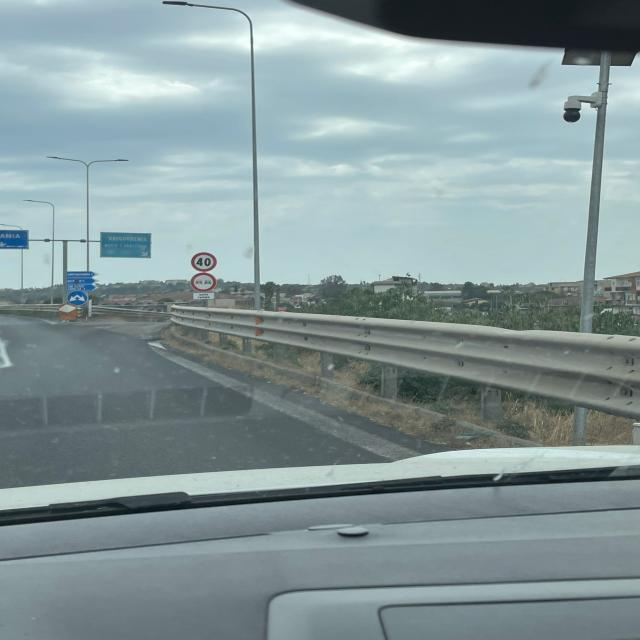forb_overtake: (191, 273, 217, 293)
forb_speed_over_40: (191, 252, 218, 273)
